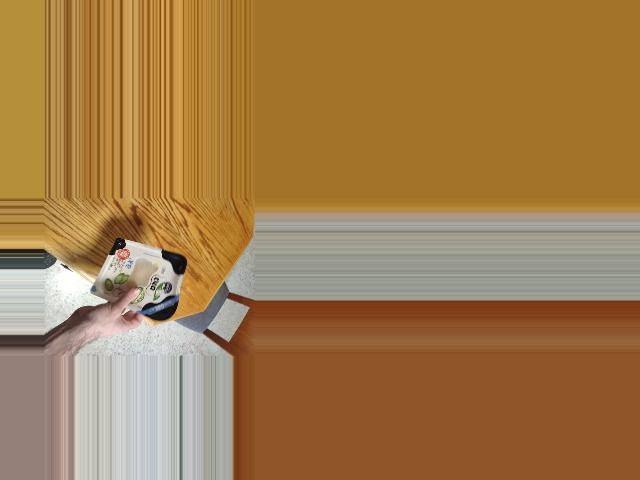cheese: (105, 239, 188, 323)
